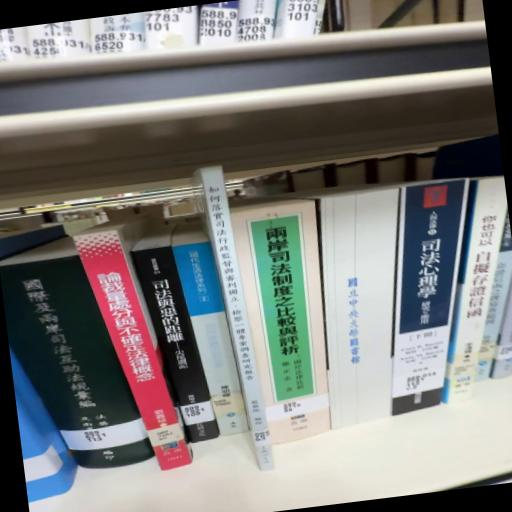backward: (294, 186, 399, 428)
book: (0, 240, 154, 481), (72, 222, 194, 481), (230, 194, 336, 404), (128, 234, 217, 451)
